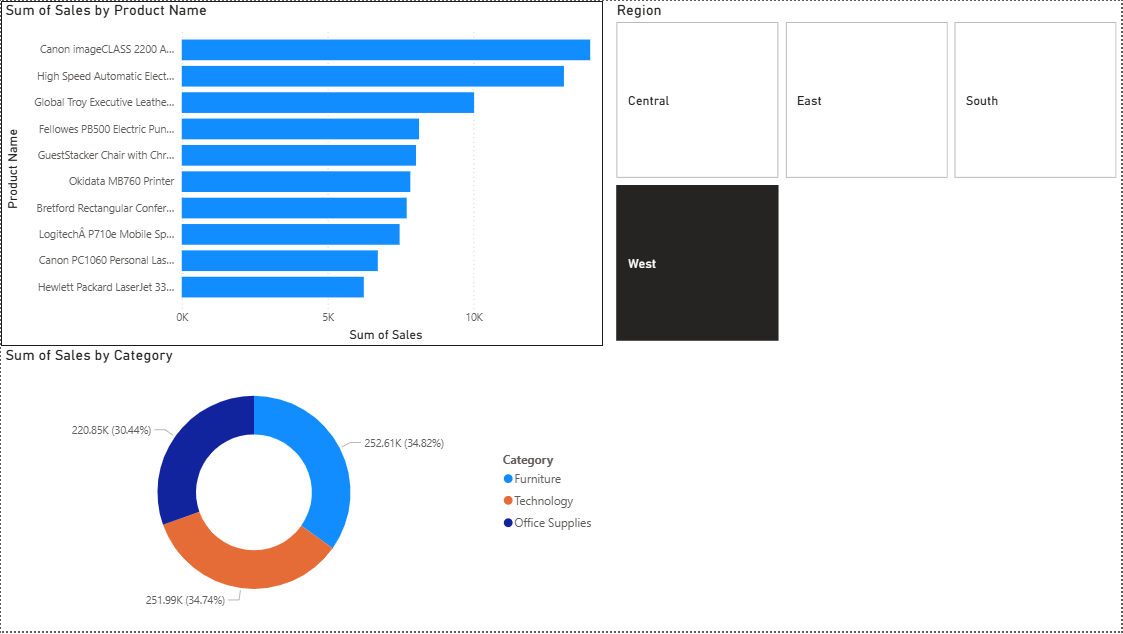

What the dashboard file says about the page in this screenshot:
{"tool":"powerbi","page":{"name":"Page 2","canvas":[1280,720],"ordinal":1},"visuals":[{"type":"clusteredBarChart","fields":{"Category":["sample_cleaned.Product Name"],"Y":["Sum(sample_cleaned.Sales)"]},"box":[0,0,688.6,394.3],"z":0},{"type":"donutChart","fields":{"Category":["sample_cleaned.Category"],"Y":["Sum(sample_cleaned.Sales)"]},"box":[0,394.3,688.6,315.7],"z":1000},{"type":"advancedSlicerVisual","fields":{"Values":["sample_cleaned.Region"]},"box":[699,0,581,394],"z":1001}]}

Visuals, with their boxes in screenshot pixels (x1, y1, x2, y2), scaled from the page's 1280x720 canvas onto the 1123x634 screenshot:
clusteredBarChart - sample_cleaned.Product Name x Sum(sample_cleaned.Sales): 0, 0, 604, 347
donutChart - sample_cleaned.Category x Sum(sample_cleaned.Sales): 0, 347, 604, 625
advancedSlicerVisual - sample_cleaned.Region: 613, 0, 1122, 347
